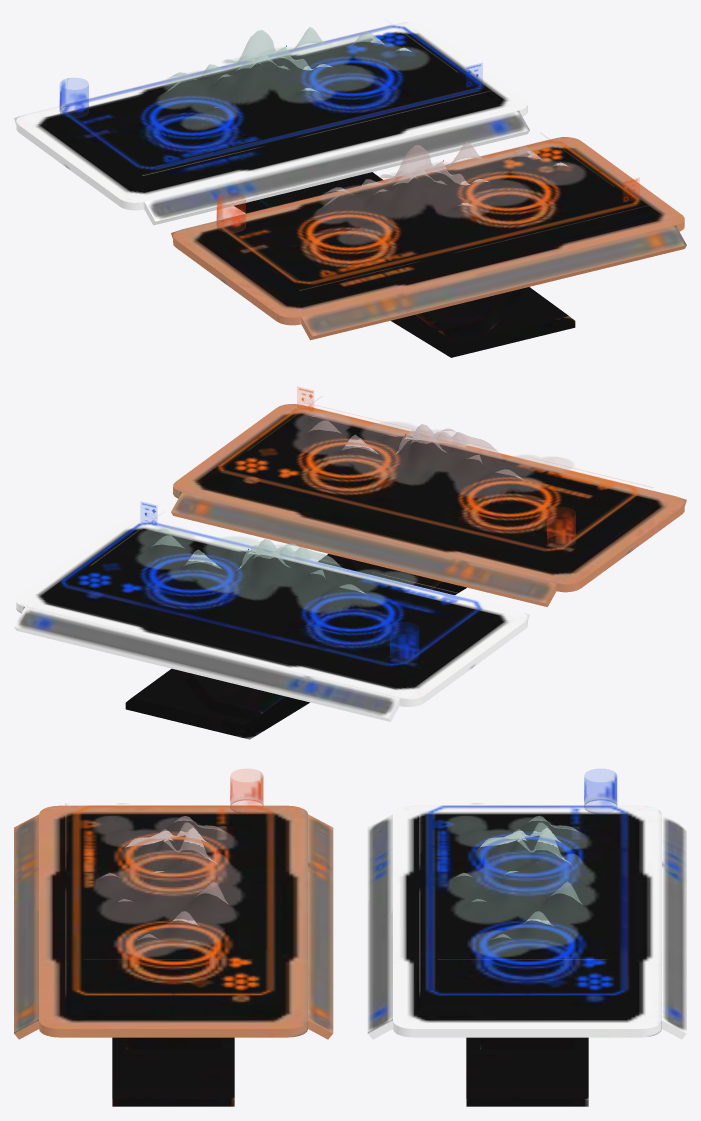
The model's file is hologram-table.glb.
The picture shows the model from 3 angles, top to bottom: view 1: azimuth 30°, elevation 25°; view 2: azimuth 150°, elevation 25°; view 3: azimuth 270°, elevation 25°; orthographic projection. The views are drawn at different scales.
Parts seen in each view (by area): view 1: HT1_T1_tex2_0, HT_T1_tex1_0; view 2: HT_T1_tex1_0, HT1_T1_tex2_0; view 3: HT1_T1_tex2_0, HT_T1_tex1_0.
Part boxes in pixels (box(x1,y1,x2,y2)): HT1_T1_tex2_0: box(171, 133, 686, 357); HT_T1_tex1_0: box(14, 18, 529, 225); HT_T1_tex1_0: box(14, 502, 529, 739); HT1_T1_tex2_0: box(171, 387, 686, 606); HT1_T1_tex2_0: box(14, 769, 333, 1106); HT_T1_tex1_0: box(367, 769, 686, 1106).
Bounding box in the file's own units: 2.62 × 1.15 × 3.34.
2 materials, 2 textured.
